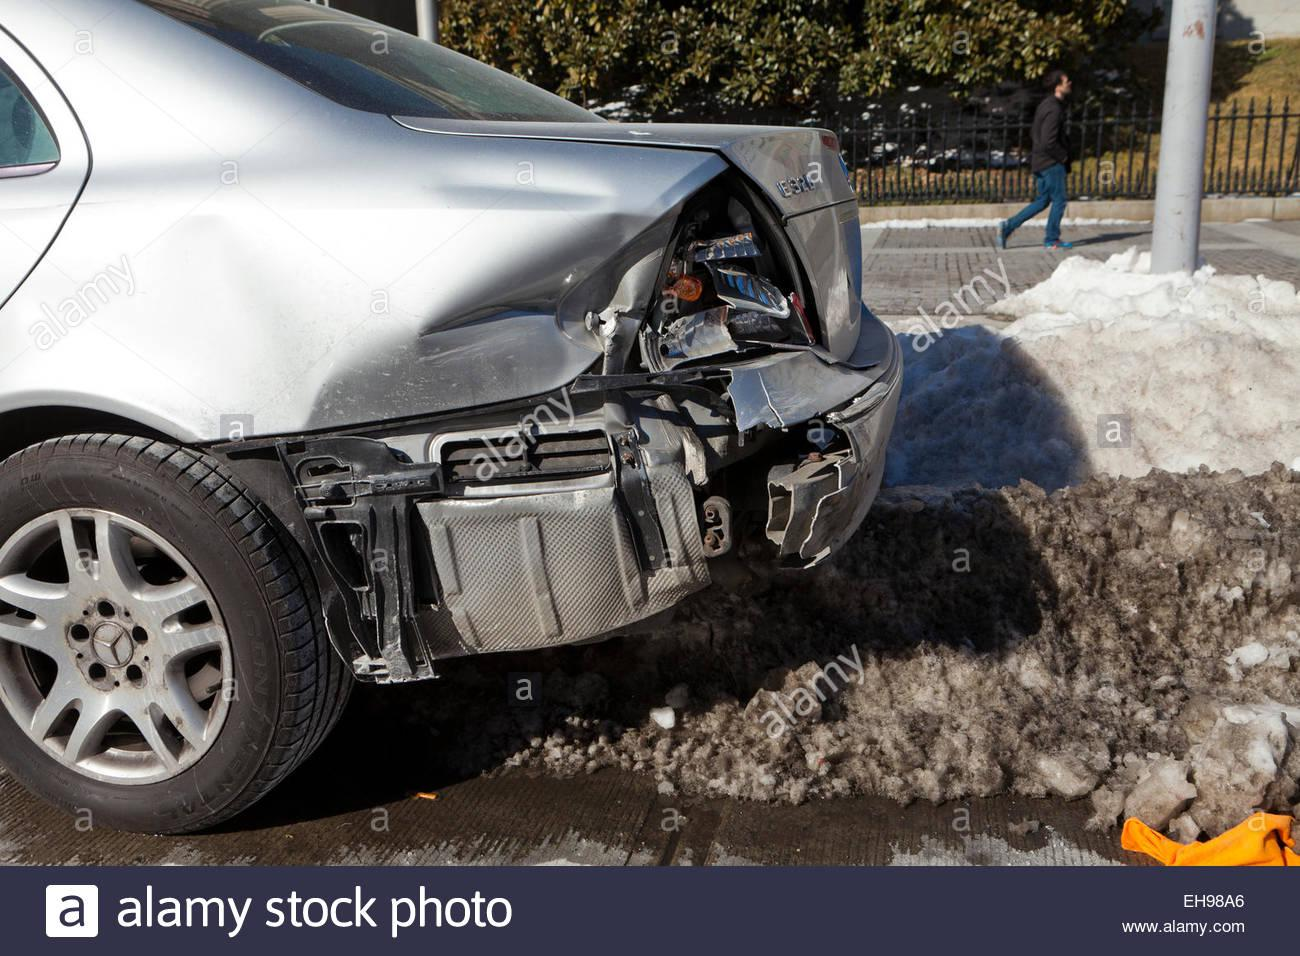quaterpanel-dent: (0, 92, 632, 556)
